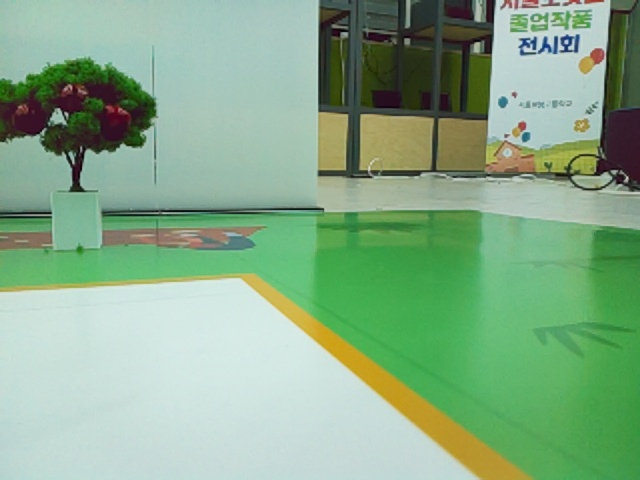apple: (107, 104, 131, 124), (591, 49, 604, 63)
